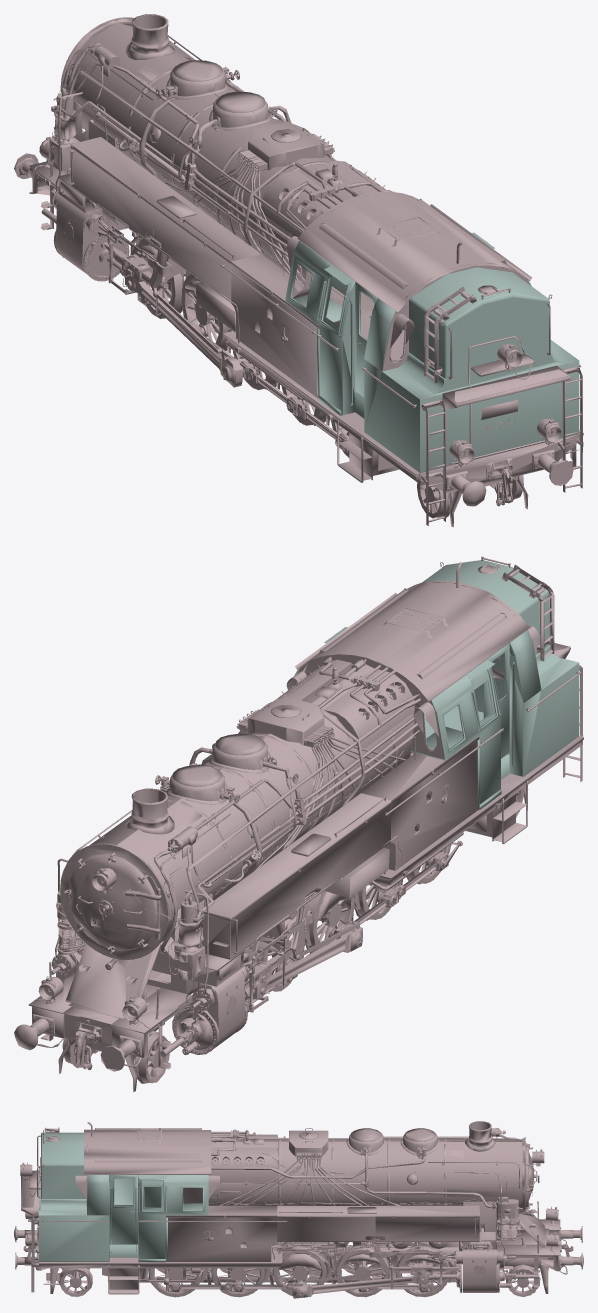
3 renders of one model, top to bottom at view 1: azimuth 30°, elevation 25°; view 2: azimuth 150°, elevation 25°; view 3: azimuth 270°, elevation 25°, orthographic. The views are drawn at different scales.
Parts seen in each view (by area): view 1: polySurface136_oil_tank_0, pCube665_cabin_02_0, polySurface2082_back_detail_0, pCylinder820_pipes_L_0, polySurface1052_cabin_01_L_0, polySurface1672_body_front_0, polySurface180_hull_03_L_0, polySurface1671_body_back_0, polySurface178_hull_01_L_0, polySurface176_hull_02_L_0, polySurface298_coupling_rods_L_0, pCube693_the_stuff_i_kinda_forgot_0 (+16 smaller); view 2: pCube665_cabin_02_0, pCylinder820_pipes_L_0, sweep123_smokebox_door_0, polySurface1672_body_front_0, polySurface1052_cabin_01_L_0, polySurface136_oil_tank_0, pCylinder832_detail_front_0, polySurface180_hull_03_L_0, polySurface178_hull_01_L_0, polySurface1671_body_back_0, polySurface176_hull_02_L_0, polySurface482_wheels_L_0 (+17 smaller); view 3: polySurface1672_body_front_0, polySurface136_oil_tank_0, polySurface1024_cabin_01_R_0, pCube665_cabin_02_0, polySurface473_wheels_R_0, polySurface1671_body_back_0, polySurface179_hull_03_R_0, polySurface177_hull_01_R_0, polySurface1936_pipes_R_0, polySurface175_hull_02_R_0, pCube693_the_stuff_i_kinda_forgot_0, polySurface182_coupling_rods_R_0 (+25 smaller).
Boxes of the visible parts, x1,y1,x2,y2 form: polySurface136_oil_tank_0: (364, 267, 579, 472); pCube665_cabin_02_0: (286, 191, 531, 371); polySurface2082_back_detail_0: (419, 242, 583, 525); pCylinder820_pipes_L_0: (53, 44, 392, 284); polySurface1052_cabin_01_L_0: (285, 240, 395, 418); polySurface1672_body_front_0: (66, 22, 273, 210); polySurface180_hull_03_L_0: (231, 254, 339, 398); polySurface1671_body_back_0: (192, 118, 373, 314); polySurface178_hull_01_L_0: (70, 137, 182, 245); polySurface176_hull_02_L_0: (153, 197, 260, 302); polySurface298_coupling_rods_L_0: (101, 226, 349, 452); pCube693_the_stuff_i_kinda_forgot_0: (70, 145, 583, 482); pCube665_cabin_02_0: (286, 580, 538, 759); pCylinder820_pipes_L_0: (154, 657, 420, 953); sweep123_smokebox_door_0: (60, 843, 168, 959); polySurface1672_body_front_0: (89, 761, 290, 942); polySurface1052_cabin_01_L_0: (410, 629, 541, 809); polySurface136_oil_tank_0: (423, 560, 579, 776); pCylinder832_detail_front_0: (28, 943, 194, 1057); polySurface180_hull_03_L_0: (361, 736, 479, 870); polySurface178_hull_01_L_0: (201, 850, 313, 959); polySurface1671_body_back_0: (201, 664, 414, 841); polySurface176_hull_02_L_0: (283, 793, 391, 898); polySurface482_wheels_L_0: (135, 788, 524, 1083); polySurface1672_body_front_0: (365, 1138, 522, 1213); polySurface136_oil_tank_0: (39, 1132, 109, 1261); polySurface1024_cabin_01_R_0: (87, 1175, 208, 1262); pCube665_cabin_02_0: (75, 1128, 219, 1214); polySurface473_wheels_R_0: (58, 1245, 540, 1297); polySurface1671_body_back_0: (208, 1138, 364, 1205); polySurface179_hull_03_R_0: (166, 1205, 277, 1261); polySurface177_hull_01_R_0: (375, 1205, 479, 1241); polySurface1936_pipes_R_0: (209, 1148, 506, 1207); polySurface175_hull_02_R_0: (277, 1205, 375, 1241); pCube693_the_stuff_i_kinda_forgot_0: (39, 1191, 478, 1268); polySurface182_coupling_rods_R_0: (166, 1242, 460, 1291).
Size of the model in its own units: 23.79 by 34.98 by 110.
